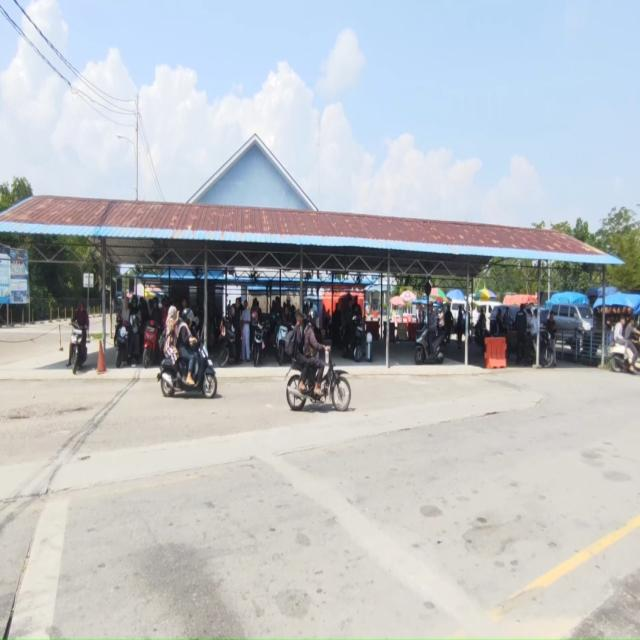Golongan II: (285, 352, 351, 411), (157, 339, 217, 399), (115, 315, 140, 368), (414, 325, 446, 364), (342, 314, 364, 362), (527, 328, 553, 368), (70, 321, 89, 375), (251, 319, 270, 366), (142, 318, 158, 368), (115, 316, 130, 368), (219, 320, 235, 368), (609, 343, 635, 372), (276, 324, 292, 366)
